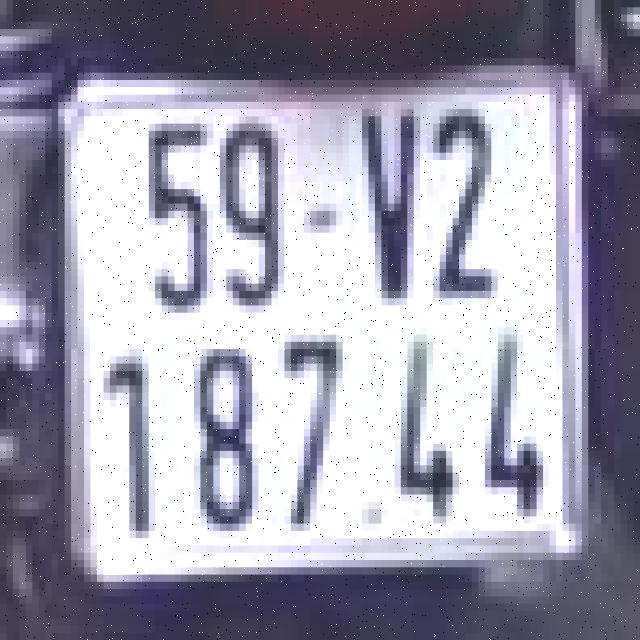1: (94, 331, 171, 542)
2: (426, 91, 511, 309)
4: (475, 320, 559, 545), (388, 316, 465, 528)
5: (139, 116, 217, 320)
7: (275, 324, 352, 542)
8: (188, 327, 272, 538)
9: (217, 113, 294, 309)
V: (352, 87, 423, 306)
